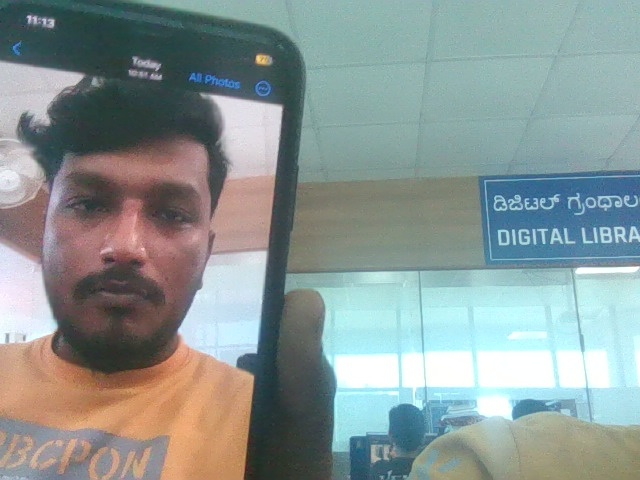fake: (15, 48, 245, 374)
